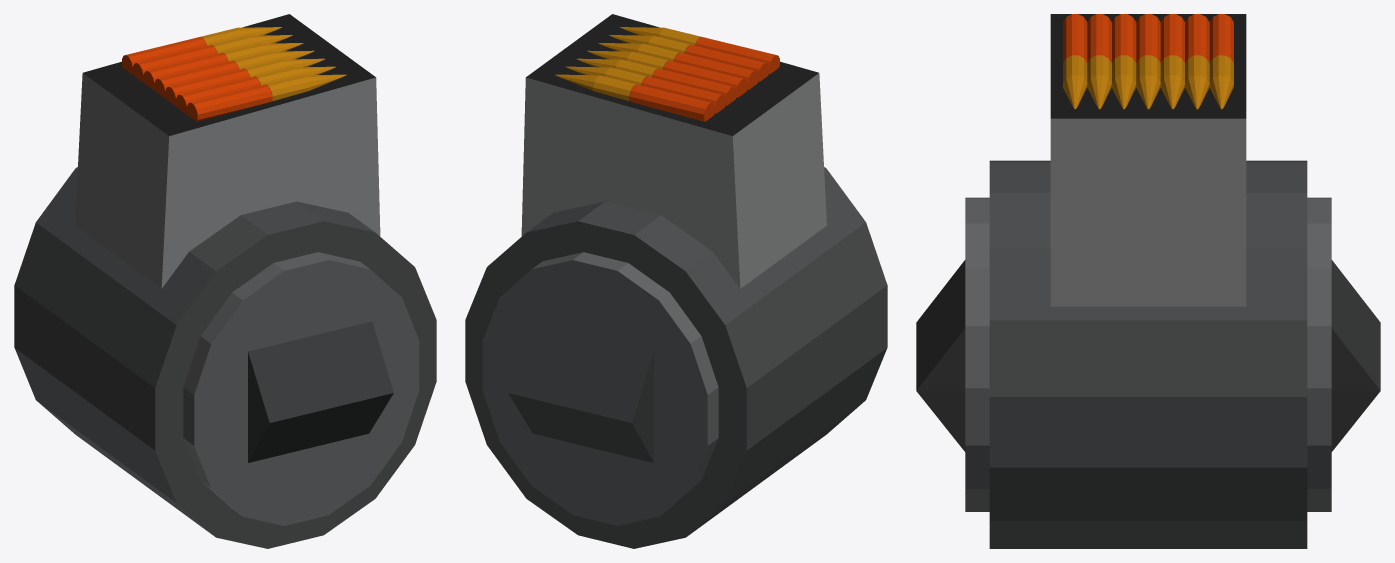
File: heavy_machine_gun_clip.glb
3 renders of one model, left to right at view 1: azimuth 30°, elevation 25°; view 2: azimuth 150°, elevation 25°; view 3: azimuth 270°, elevation 25°, orthographic. The views are drawn at different scales.
Visible parts, largest first — view 1: cylinder, cuboid, cylinder.001, cuboid.001, cone.001, cone, cone.008, cone.012, cone.005, cone.007, cone.010, cone.003 (+6 smaller); view 2: cylinder, cuboid, cylinder.001, cuboid.001, cone.007, cone.006, cone.008, cone.010, cone.003, cone.001, cone.012, cone.005 (+6 smaller); view 3: cylinder, cuboid, cylinder.001, cuboid.001, cone.002, cone.004, cone, cone.006, cone.011, cone.013, cone.001, cone.007 (+6 smaller).
Part boxes in pixels (left/top/right/bottom): cylinder: left=14, top=167, right=436, bottom=548; cuboid: left=75, top=14, right=380, bottom=288; cylinder.001: left=183, top=252, right=419, bottom=525; cuboid.001: left=248, top=321, right=393, bottom=462; cone.001: left=187, top=84, right=272, bottom=121; cone: left=266, top=74, right=346, bottom=100; cone.008: left=154, top=60, right=239, bottom=97; cone.012: left=132, top=44, right=217, bottom=81; cone.005: left=143, top=52, right=228, bottom=90; cone.007: left=122, top=36, right=206, bottom=74; cone.010: left=176, top=76, right=260, bottom=113; cone.003: left=165, top=68, right=249, bottom=105; cylinder: left=465, top=167, right=887, bottom=548; cuboid: left=521, top=14, right=826, bottom=288; cylinder.001: left=482, top=252, right=718, bottom=525; cuboid.001: left=508, top=321, right=653, bottom=462; cone.007: left=629, top=84, right=714, bottom=121; cone.006: left=555, top=74, right=635, bottom=100; cone.008: left=662, top=60, right=747, bottom=97; cone.010: left=684, top=44, right=769, bottom=81; cone.003: left=673, top=52, right=758, bottom=90; cone.001: left=695, top=36, right=779, bottom=74; cone.012: left=641, top=76, right=725, bottom=113; cone.005: left=652, top=68, right=736, bottom=105; cylinder: left=989, top=160, right=1307, bottom=548; cuboid: left=1050, top=14, right=1246, bottom=306; cylinder.001: left=965, top=197, right=1331, bottom=511; cuboid.001: left=916, top=260, right=1380, bottom=451; cone.002: left=1112, top=55, right=1136, bottom=109; cone.004: left=1160, top=55, right=1184, bottom=109; cone: left=1063, top=55, right=1087, bottom=109; cone.006: left=1209, top=55, right=1233, bottom=109; cone.011: left=1087, top=55, right=1111, bottom=109; cone.013: left=1185, top=55, right=1209, bottom=109; cone.001: left=1063, top=14, right=1087, bottom=62; cone.007: left=1209, top=14, right=1233, bottom=62.
Size of the model in its own units: 0.1875 by 0.2719 by 0.2375.
Materials: 1 (1 with a texture image).
